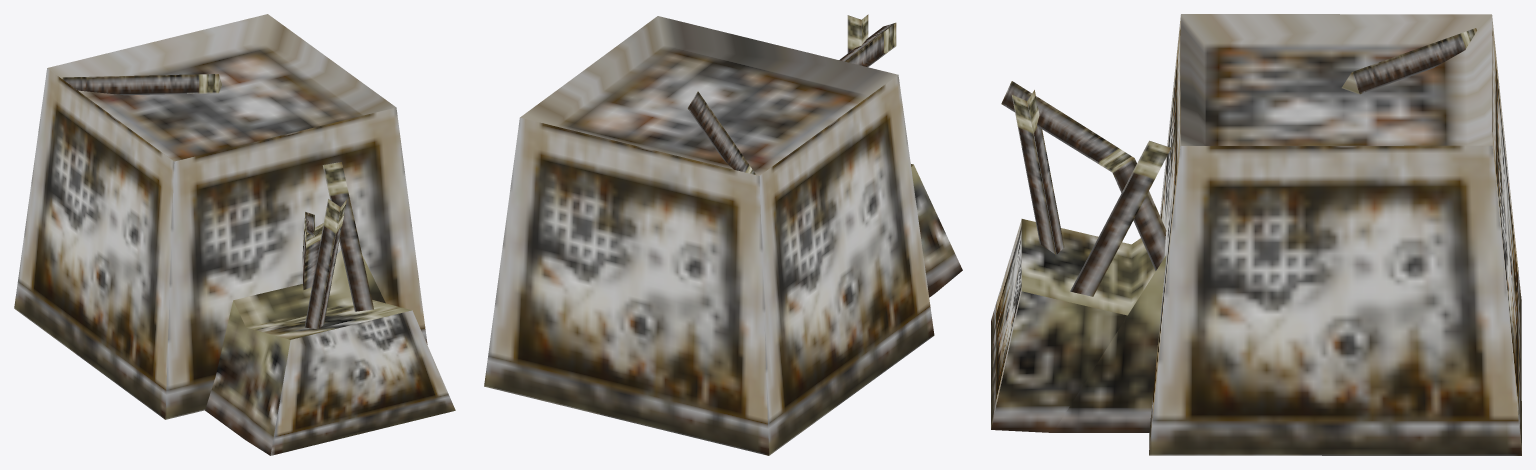
Rendered from d_lightwall_dam.glb.
The picture shows the model from 3 angles, left to right: view 1: azimuth 30°, elevation 25°; view 2: azimuth 150°, elevation 25°; view 3: azimuth 270°, elevation 25°; orthographic projection. The views are drawn at different scales.
Parts seen in each view (by area): view 1: DavionLightwall_damaged; view 2: DavionLightwall_damaged; view 3: DavionLightwall_damaged.
Part boxes in pixels (x1,y1,x2,y2): DavionLightwall_damaged: (14,14,455,455); DavionLightwall_damaged: (484,14,962,455); DavionLightwall_damaged: (991,14,1521,455).
Size of the model in its own units: 4.54 by 4.16 by 6.5.
Materials: 1 (1 with a texture image).
